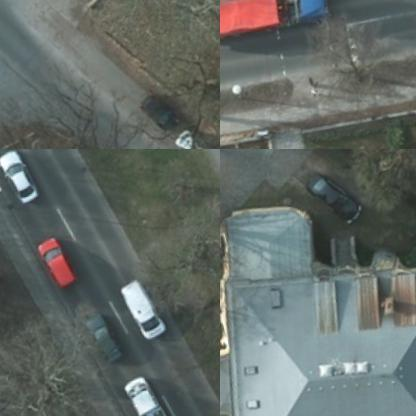car: (300, 168, 362, 242), (120, 87, 189, 148), (115, 278, 163, 351), (78, 313, 120, 376), (0, 149, 39, 212), (34, 243, 72, 294), (156, 124, 219, 148), (116, 380, 153, 415)
